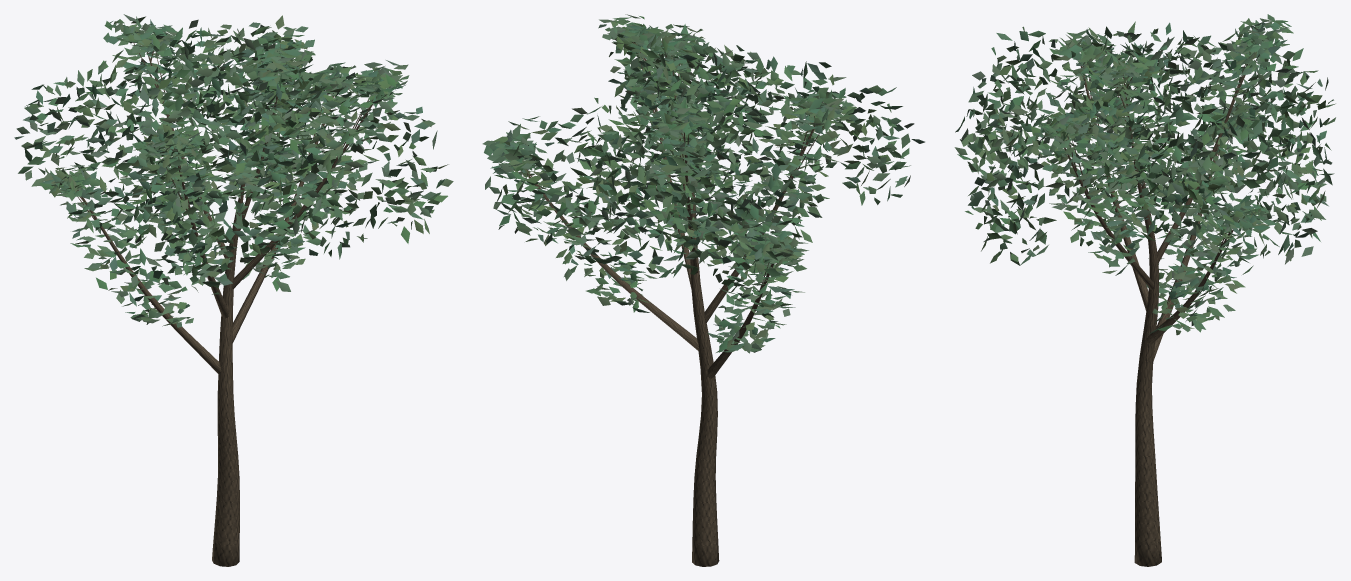
File: quay-banyan-a.glb
3 renders of one model, left to right at view 1: azimuth 30°, elevation 25°; view 2: azimuth 150°, elevation 25°; view 3: azimuth 270°, elevation 25°, orthographic. The views are drawn at different scales.
Parts seen in each view (by area): view 1: leaves, bark; view 2: leaves, bark; view 3: leaves, bark.
Boxes of the visible parts, box(x1,y1,x2,y2) form: leaves: box(14, 14, 453, 327); bark: box(77, 42, 377, 566); leaves: box(482, 14, 924, 353); bark: box(526, 42, 824, 566); leaves: box(954, 14, 1335, 335); bark: box(1056, 31, 1264, 566).
Bounding box in the file's own units: 7.57 × 11.45 × 7.5.
2 materials, 1 textured.
